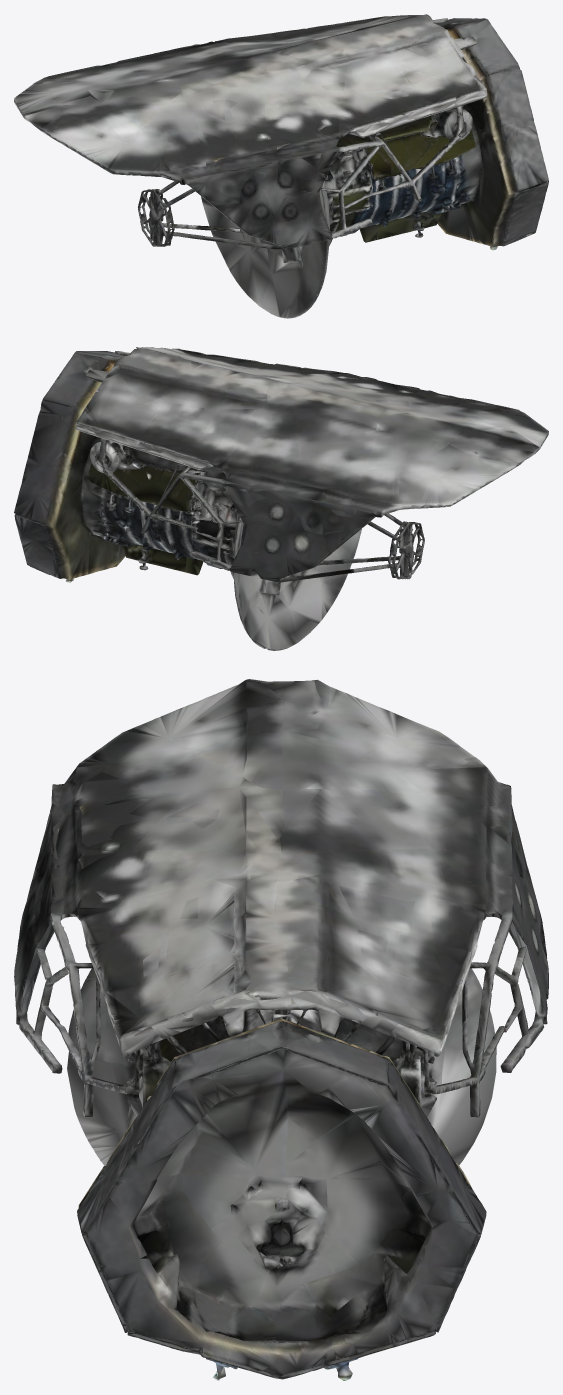
Rendered from herschel-low.glb.
The picture shows the model from 3 angles, top to bottom: view 1: azimuth 30°, elevation 25°; view 2: azimuth 150°, elevation 25°; view 3: azimuth 270°, elevation 25°; orthographic projection. The views are drawn at different scales.
Bounding box in the file's own units: 1.9 × 0.9787 × 1.2.
Materials: 1 (1 with a texture image).
